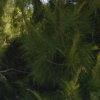Tree: (23, 4, 100, 82)
